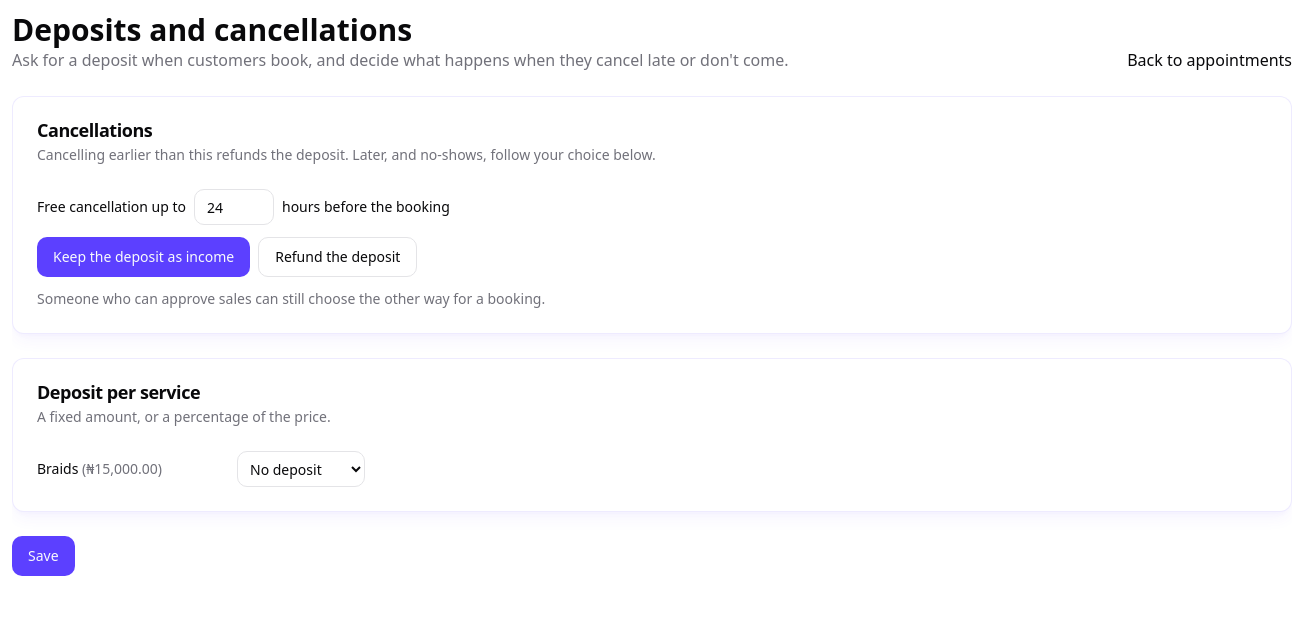
Test: the owner sets a deposit per service and the cancellation rule
Select "Percentage" in the dropdown named "Deposit for Braids" at (301, 469), box x1=237 y1=451 x2=365 y2=487
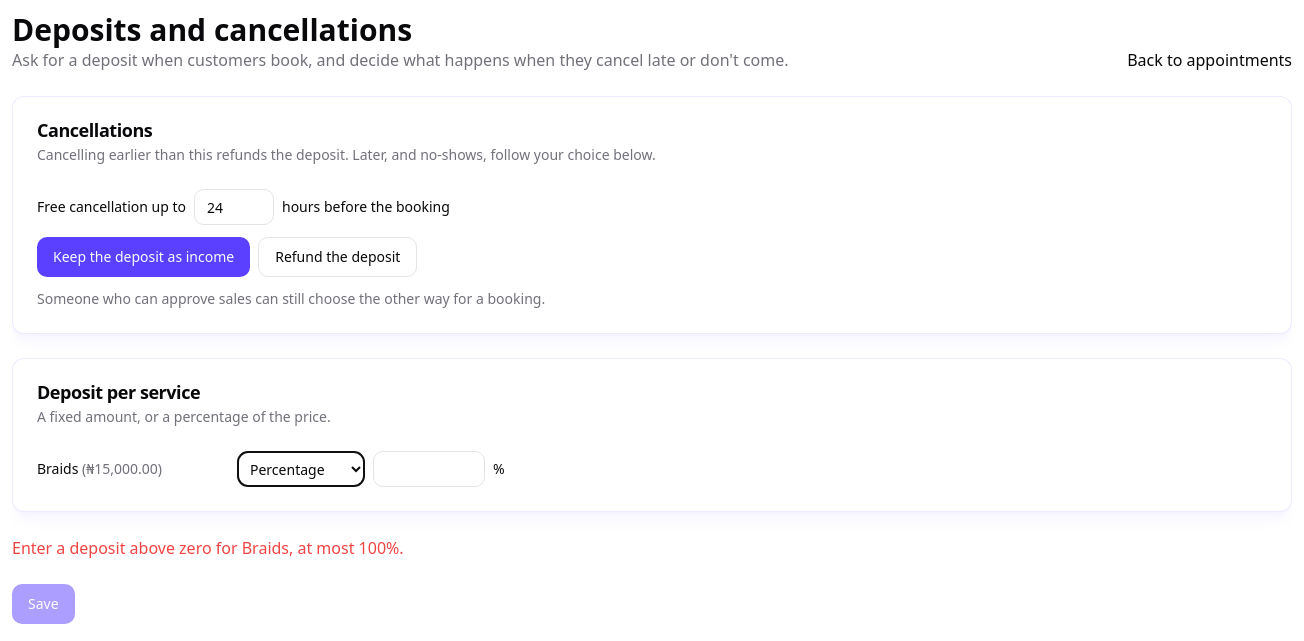
Check: the message reads "Enter a deposit above zero for Braids, at most 100%.", box x1=12 y1=537 x2=404 y2=559
Type "20" into the field named "Braids deposit (%)" at (429, 469), box x1=373 y1=451 x2=485 y2=487
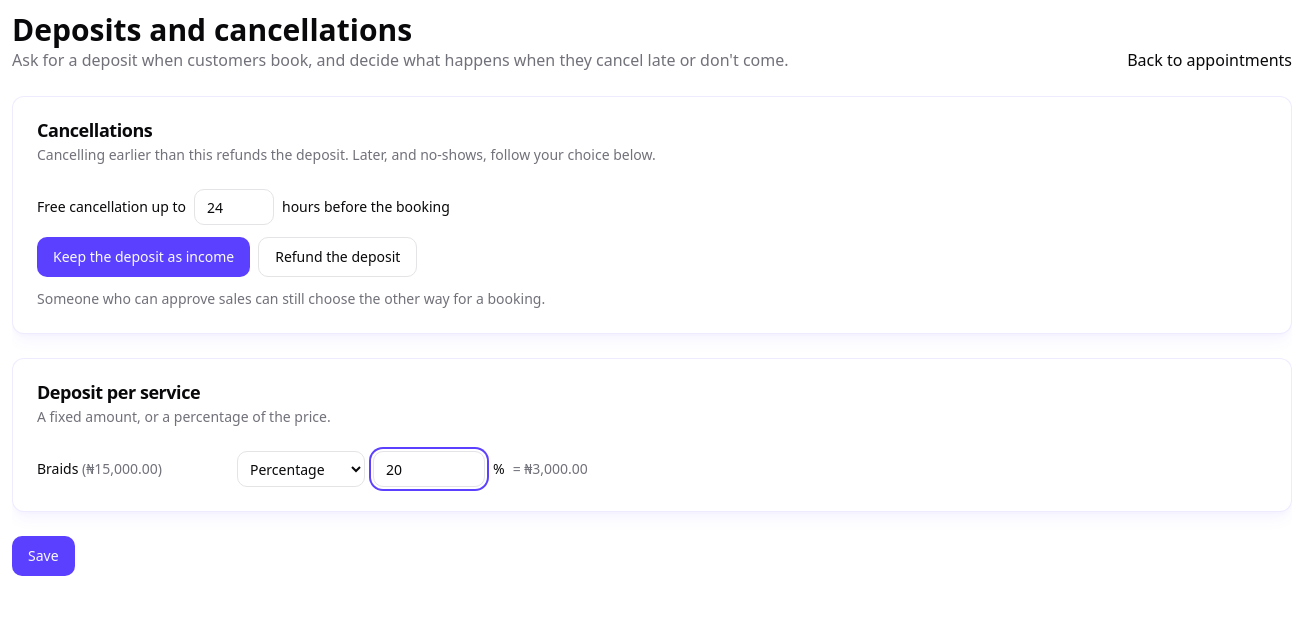
Check: the text "= ₦3,000.00" is shown, box x1=513 y1=459 x2=588 y2=479
Replace the text in the field named "Free cancellation hours" with "12" at (234, 207), box x1=194 y1=189 x2=274 y2=225
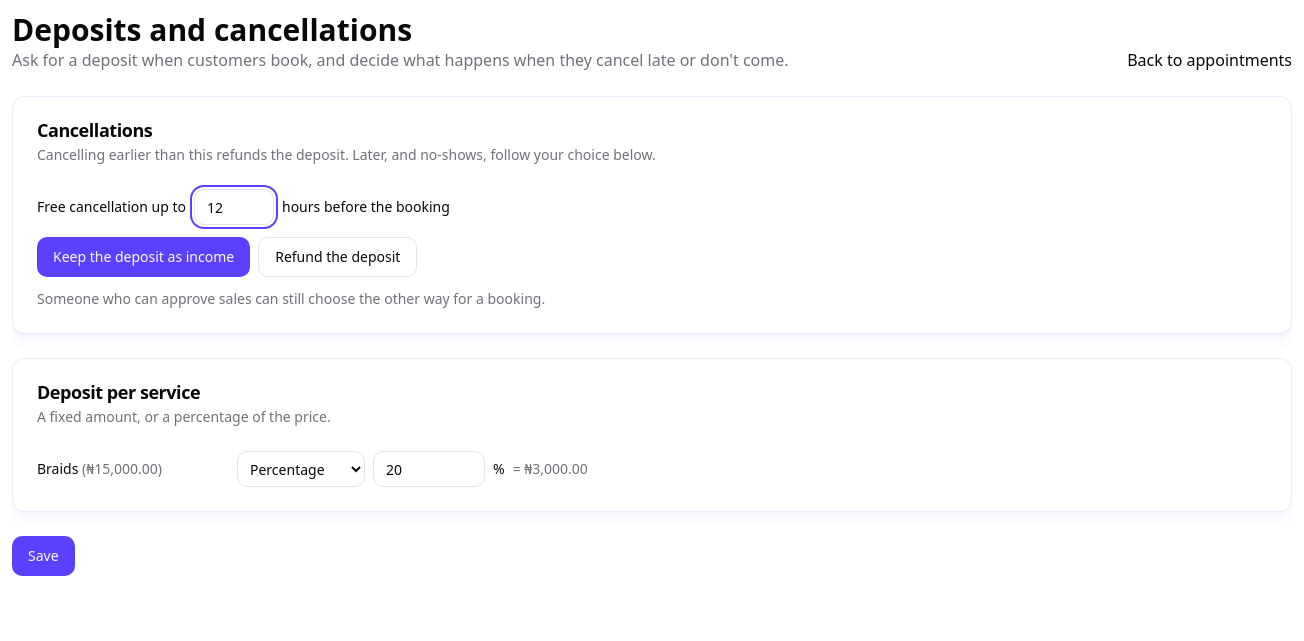
Click the radio button labelled "Refund the deposit" at (338, 257), box x1=258 y1=237 x2=417 y2=277
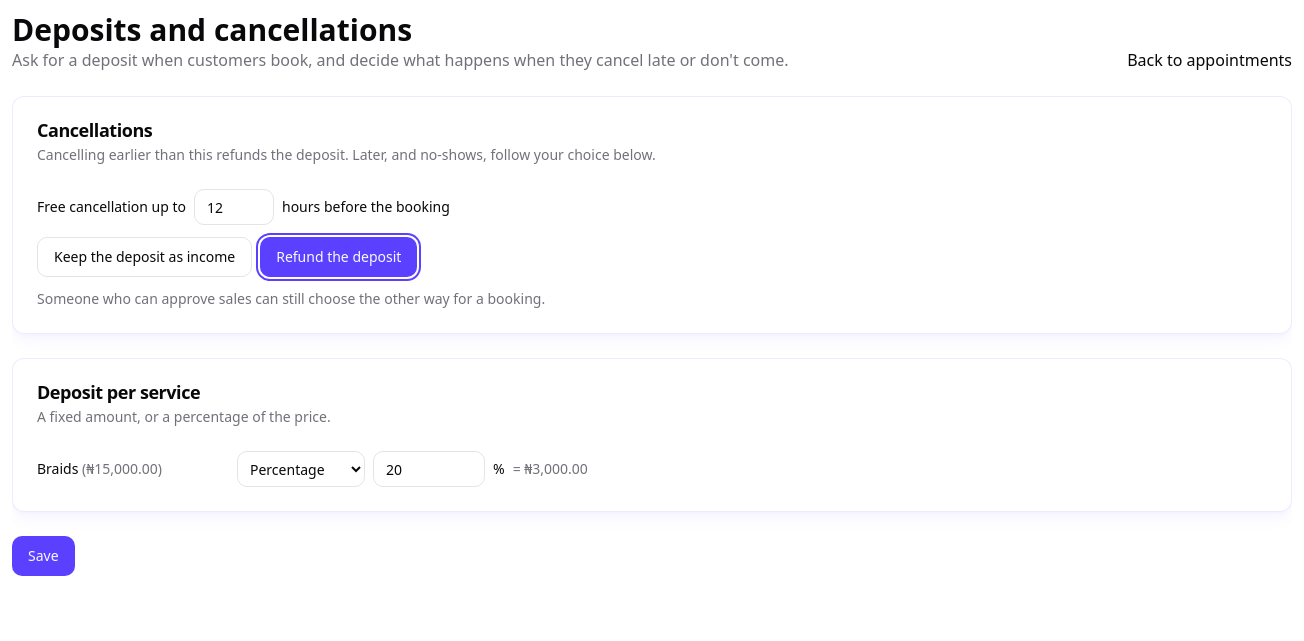
Click the button "Save" at (43, 556), box x1=12 y1=536 x2=75 y2=576
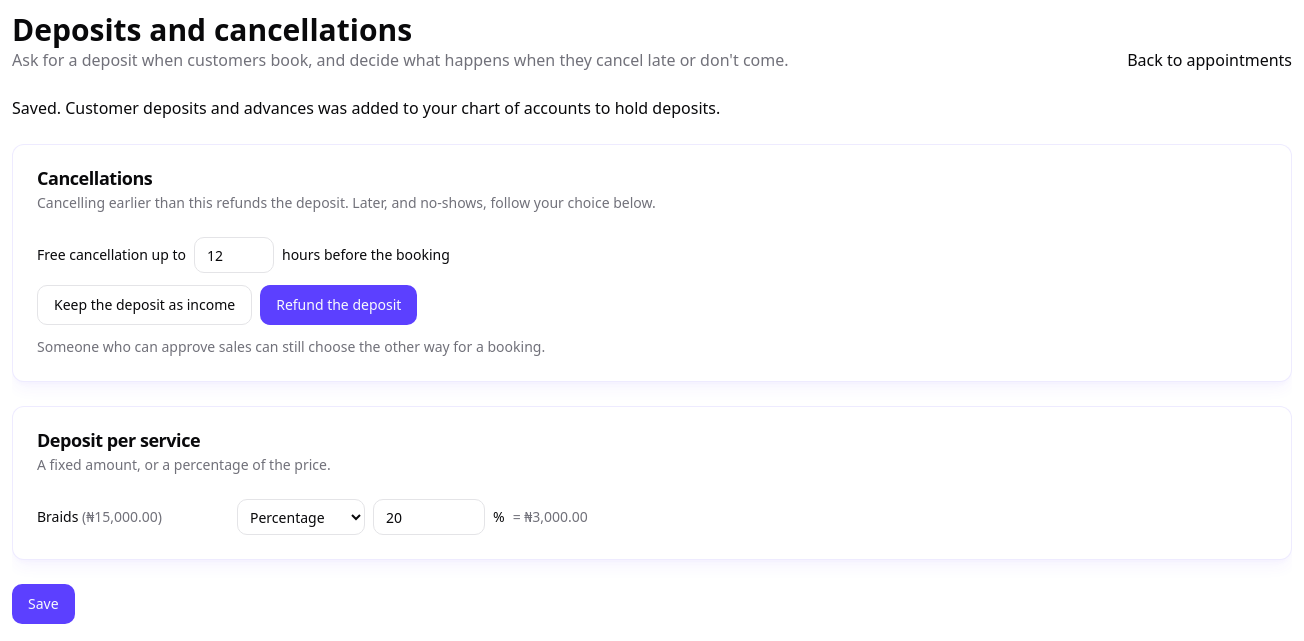
Check: the text "Saved. Customer deposits and advances was added to your chart of accounts to hold deposits." is shown, box x1=12 y1=97 x2=720 y2=119
